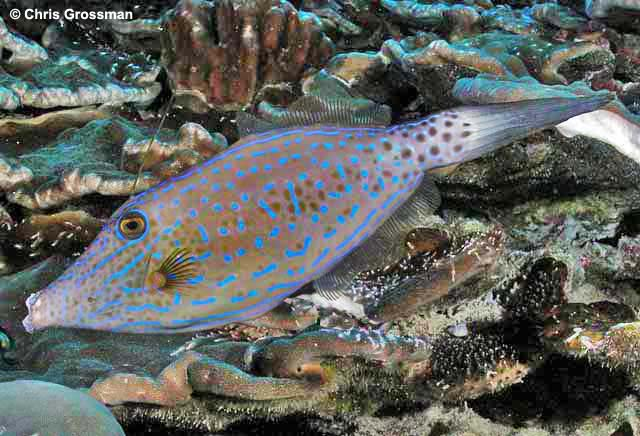Aluterus_scriptus: (20, 84, 605, 339)
